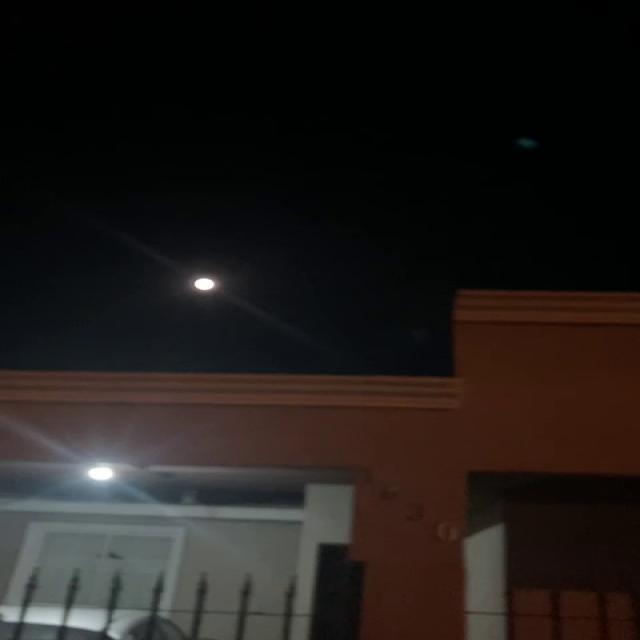moon: (180, 271, 232, 302)
